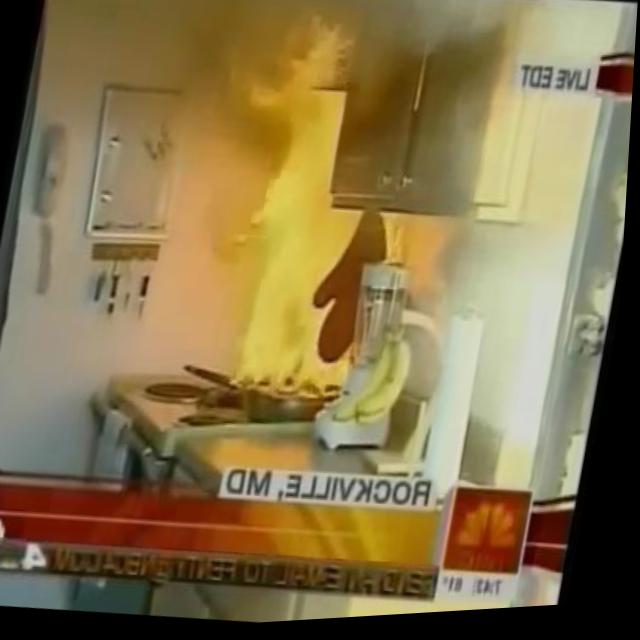fire: (180, 0, 432, 416)
